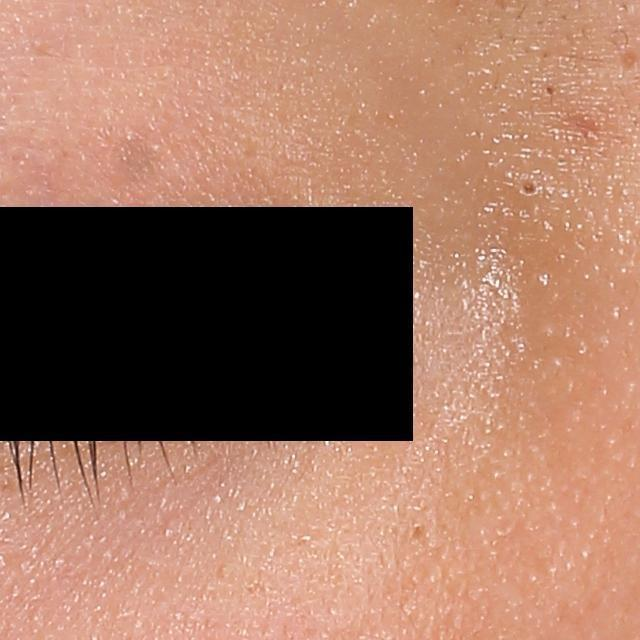atrophic_scar: (618, 48, 638, 74)
comedo: (507, 169, 548, 207), (536, 77, 564, 102)
